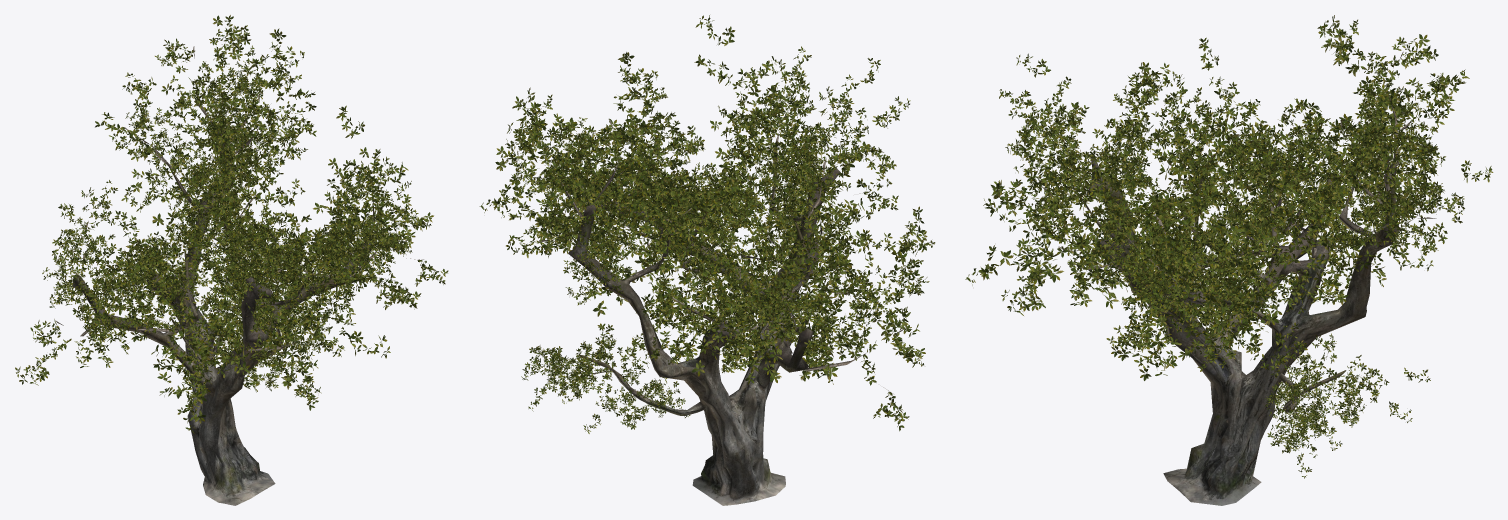
The model's file is island_tree_01_mid.gltf.
3 views of the same model, side by side, from view 1: azimuth 30°, elevation 25°; view 2: azimuth 150°, elevation 25°; view 3: azimuth 270°, elevation 25° (orthographic). The views are drawn at different scales.
Parts seen in each view (by area): view 1: island_tree_01_LOD0; view 2: island_tree_01_LOD0; view 3: island_tree_01_LOD0.
Part boxes in pixels (x1,y1,x2,y2): island_tree_01_LOD0: [15, 15, 448, 505]; island_tree_01_LOD0: [479, 15, 935, 505]; island_tree_01_LOD0: [965, 15, 1493, 505].
Bounding box in the file's own units: 4.76 × 5.02 × 4.82.
3 materials, 3 textured.
